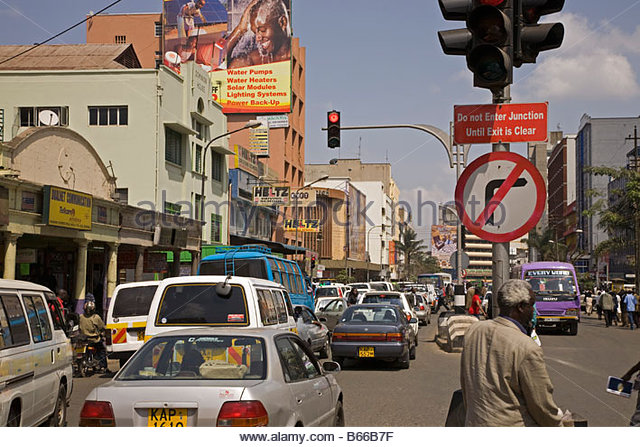No_right_turn: (454, 151, 546, 242)
